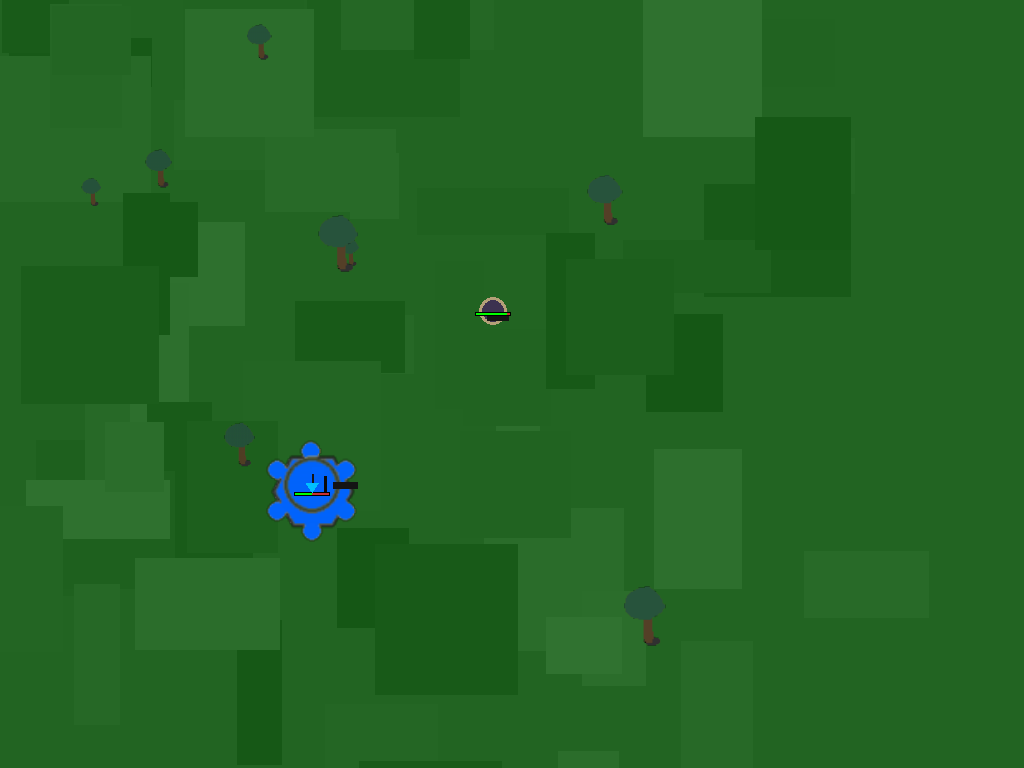APC_chn: (263, 442, 360, 539)
M1A2_chn: (471, 289, 514, 332)
